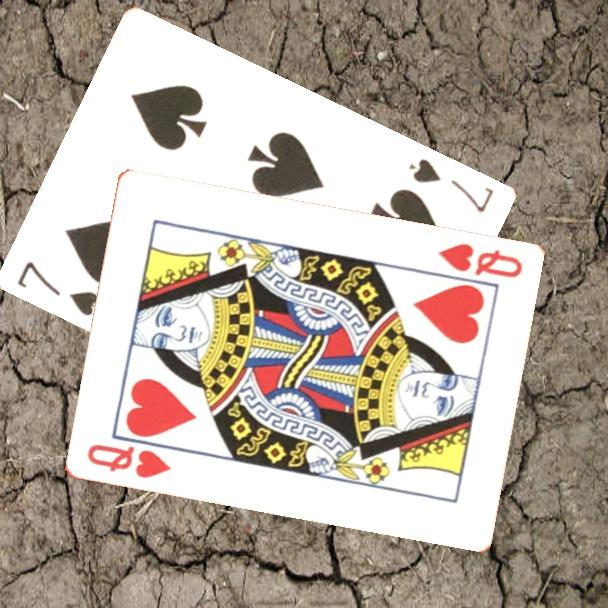h12: (433, 240, 525, 281), (83, 441, 174, 482)
s07: (14, 257, 107, 319), (406, 155, 497, 216)
